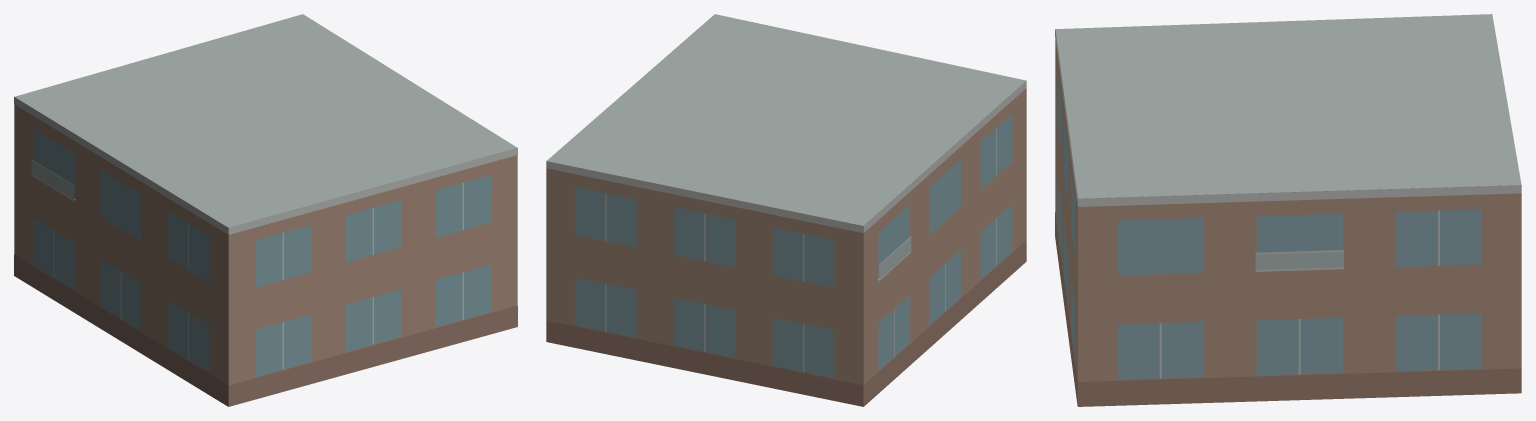
File: survey-upis-32698627.glb
3 views of the same model, side by side, from view 1: azimuth 30°, elevation 25°; view 2: azimuth 150°, elevation 25°; view 3: azimuth 270°, elevation 25° (orthographic). The views are drawn at different scales.
Parts seen in each view (by area): view 1: survey-upis-32698627.tmp; view 2: survey-upis-32698627.tmp; view 3: survey-upis-32698627.tmp.
Part boxes in pixels (<box>): survey-upis-32698627.tmp: <box>14,14,517,406</box>; survey-upis-32698627.tmp: <box>546,14,1026,406</box>; survey-upis-32698627.tmp: <box>1055,14,1521,406</box>.
Size of the model in its own units: 11.61 by 6.1 by 12.39.
